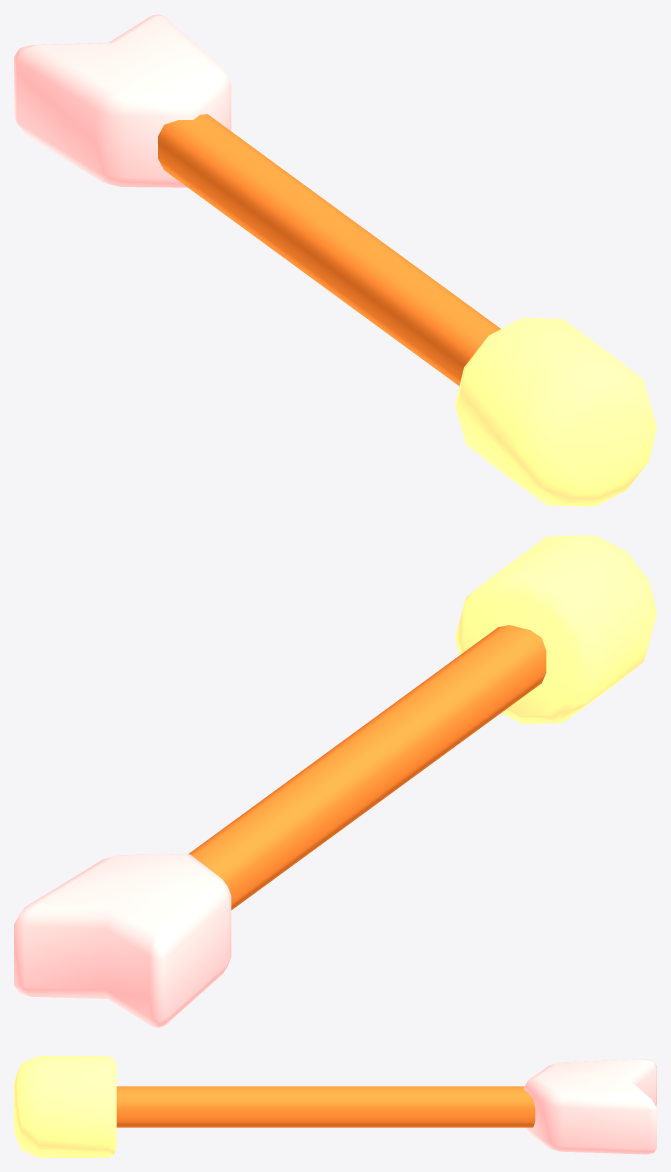
File: Arrow.fbx
The picture shows the model from 3 angles, top to bottom: view 1: azimuth 30°, elevation 25°; view 2: azimuth 150°, elevation 25°; view 3: azimuth 270°, elevation 25°; orthographic projection. The views are drawn at different scales.
Visible parts, largest first — view 1: Arrow; view 2: Arrow; view 3: Arrow.
Boxes of the visible parts, x1,y1,x2,y2 form: Arrow: [14, 14, 656, 506]; Arrow: [14, 535, 656, 1027]; Arrow: [14, 1056, 656, 1157].
Size of the model in its own units: 0.1416 by 0.1334 by 0.8393.
